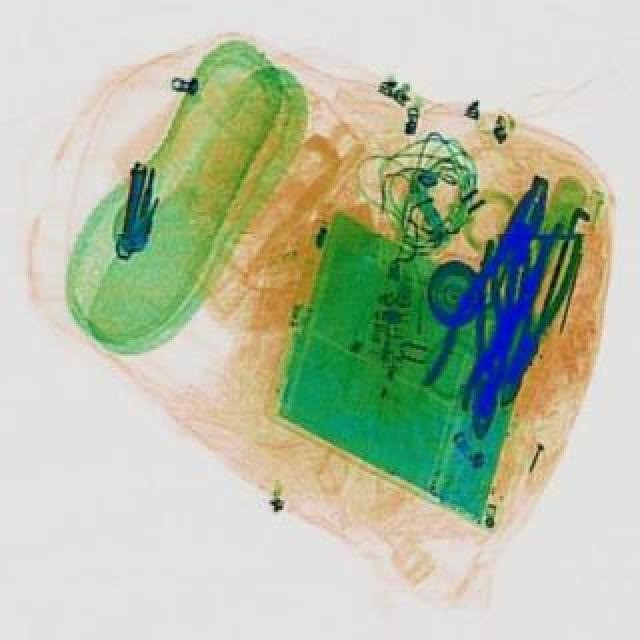wrench: (420, 170, 572, 414), (456, 244, 542, 448)
